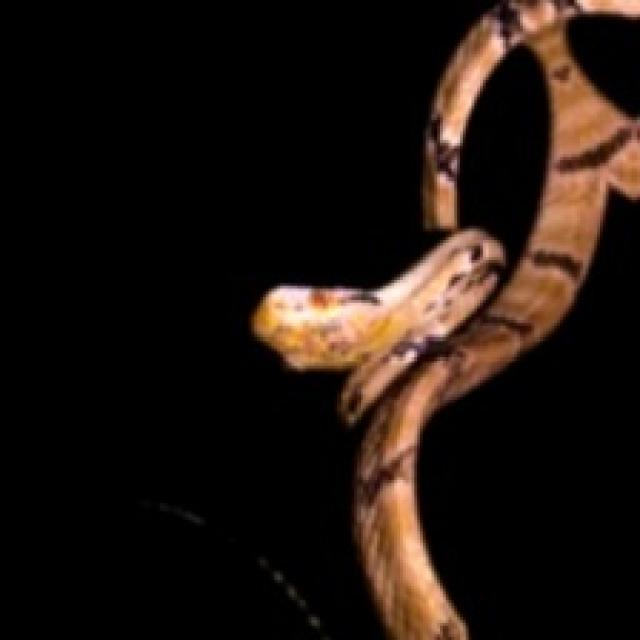dog-toothed cat snake: (251, 0, 637, 637)
